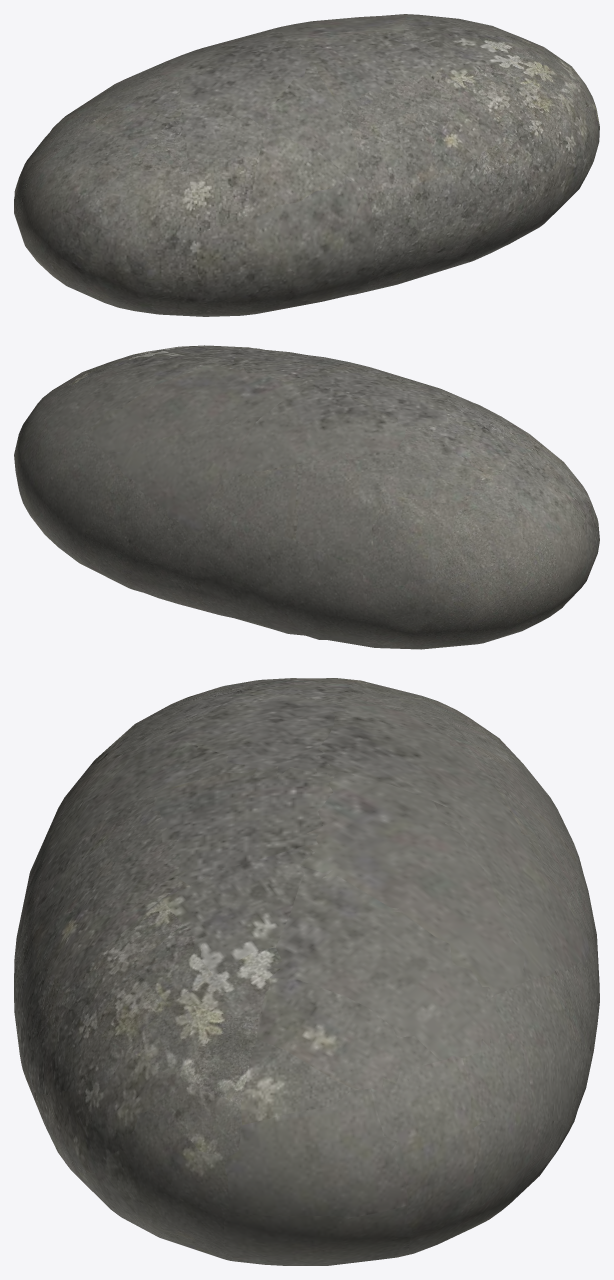
Rendered from canto_alto.glb.
3 renders of one model, top to bottom at view 1: azimuth 30°, elevation 25°; view 2: azimuth 150°, elevation 25°; view 3: azimuth 270°, elevation 25°, orthographic. The views are drawn at different scales.
Parts seen in each view (by area): view 1: alto; view 2: alto; view 3: alto.
Part boxes in pixels (box(x1,y1,x2,y2)): alto: box(14, 14, 599, 316); alto: box(14, 345, 599, 649); alto: box(14, 678, 599, 1265).
Bounding box in the file's own units: 2.4 × 0.8529 × 1.35.
1 material, 1 textured.
